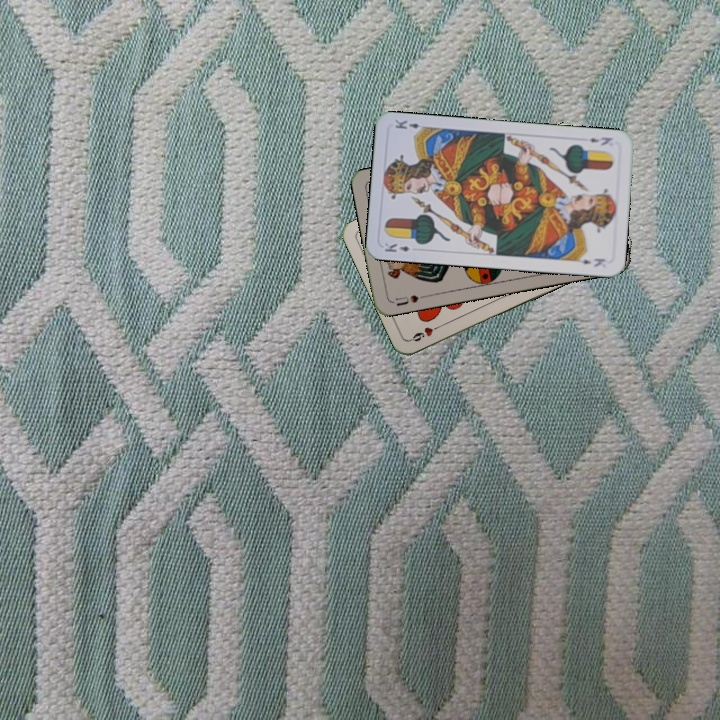EK: (381, 239, 412, 255), (586, 133, 615, 148)
H9: (406, 321, 445, 344)
SU: (388, 291, 429, 309)
